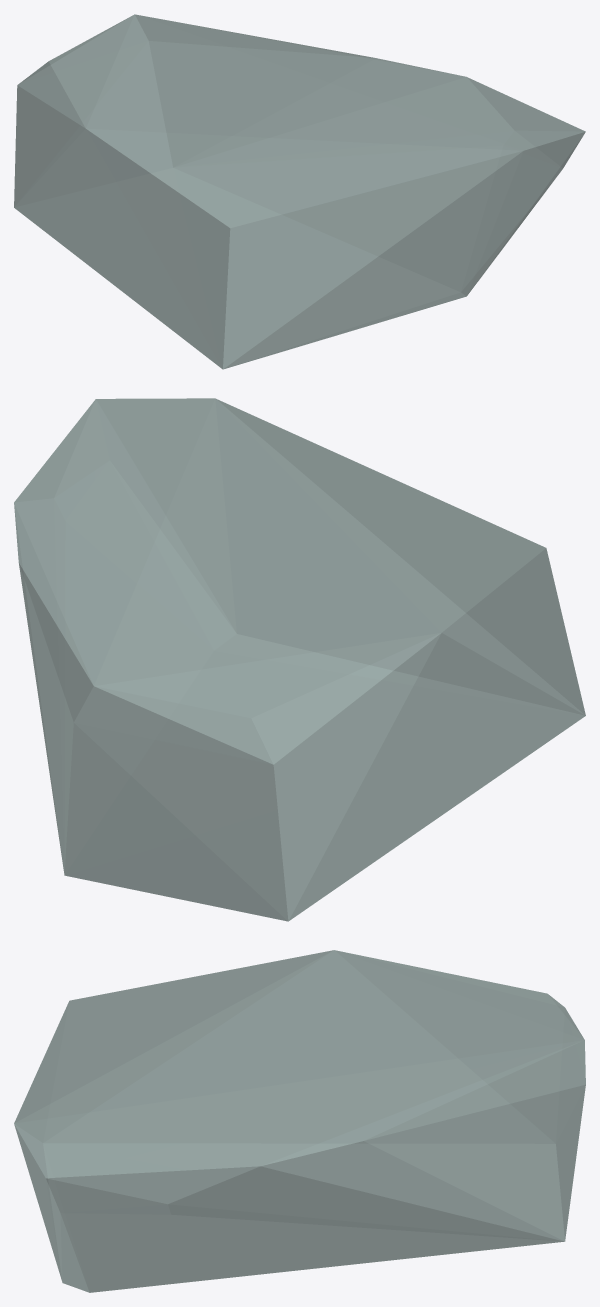
The picture shows the model from 3 angles, top to bottom: view 1: azimuth 30°, elevation 25°; view 2: azimuth 150°, elevation 25°; view 3: azimuth 270°, elevation 25°; orthographic projection. The views are drawn at different scales.
Visible parts, largest first — view 1: Shape_IndexedFaceSet.010_Shape_IndexedFaceSet.17988; view 2: Shape_IndexedFaceSet.010_Shape_IndexedFaceSet.17988; view 3: Shape_IndexedFaceSet.010_Shape_IndexedFaceSet.17988.
Boxes of the visible parts, left/top/right/bottom form: Shape_IndexedFaceSet.010_Shape_IndexedFaceSet.17988: left=14, top=14, right=585, bottom=369; Shape_IndexedFaceSet.010_Shape_IndexedFaceSet.17988: left=14, top=398, right=585, bottom=921; Shape_IndexedFaceSet.010_Shape_IndexedFaceSet.17988: left=14, top=950, right=585, bottom=1292.
Size of the model in its own units: 0.4236 by 0.168 by 0.4651.
